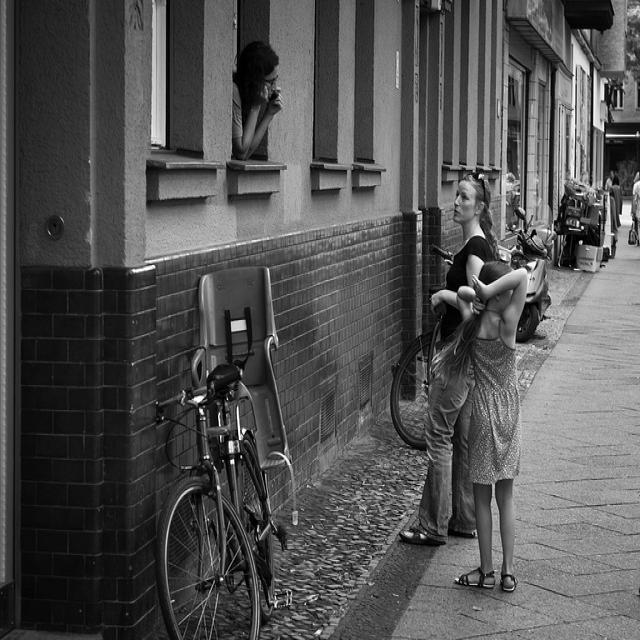motor: (511, 205, 554, 342), (549, 175, 603, 268)
